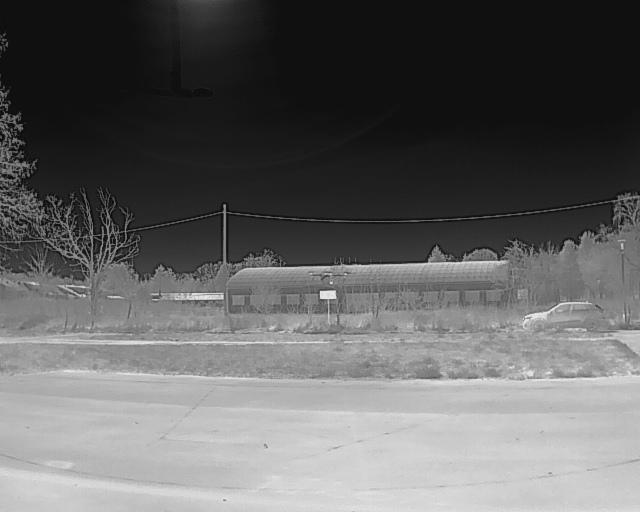drone: (305, 266, 356, 287)
